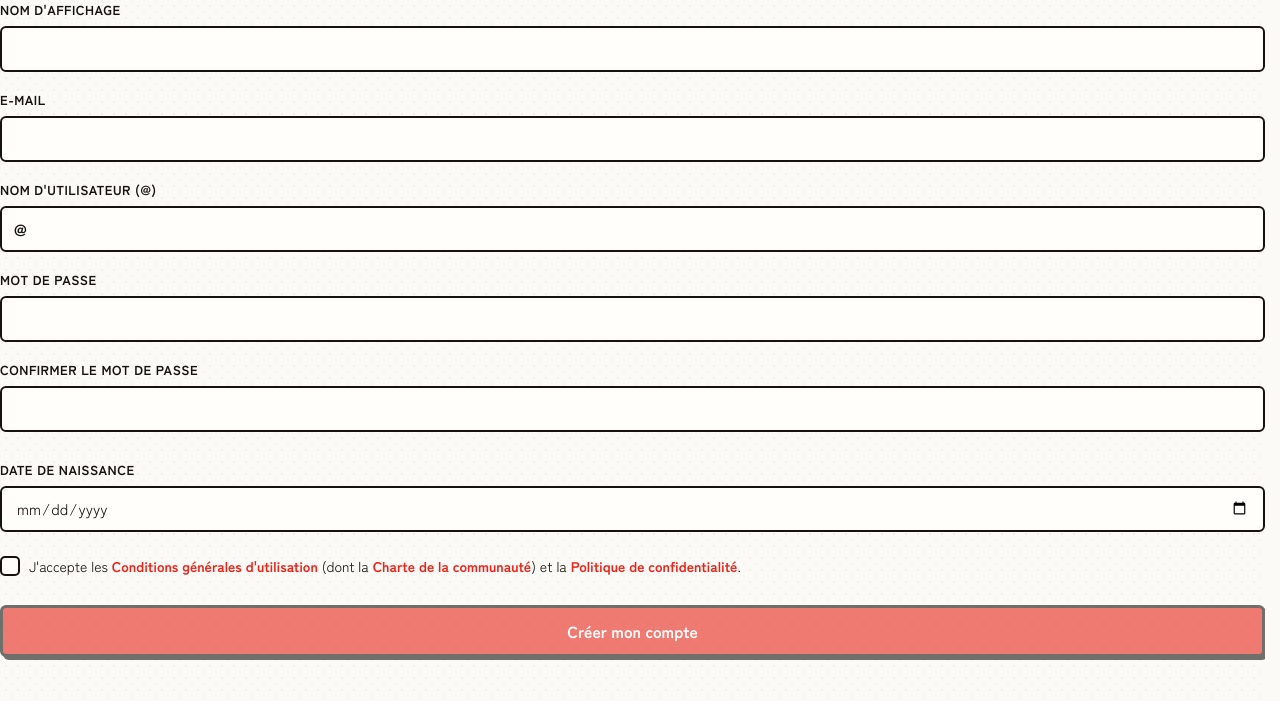
Scenario: SignupForm › shows French required errors on empty submit (after accepting CGU to enable button)
# F-13: check CGU box to enable the submit button, then submit empty form
Click the checkbox labelled "J'accepte les".
click(370, 566)  # box [0,556,741,577]
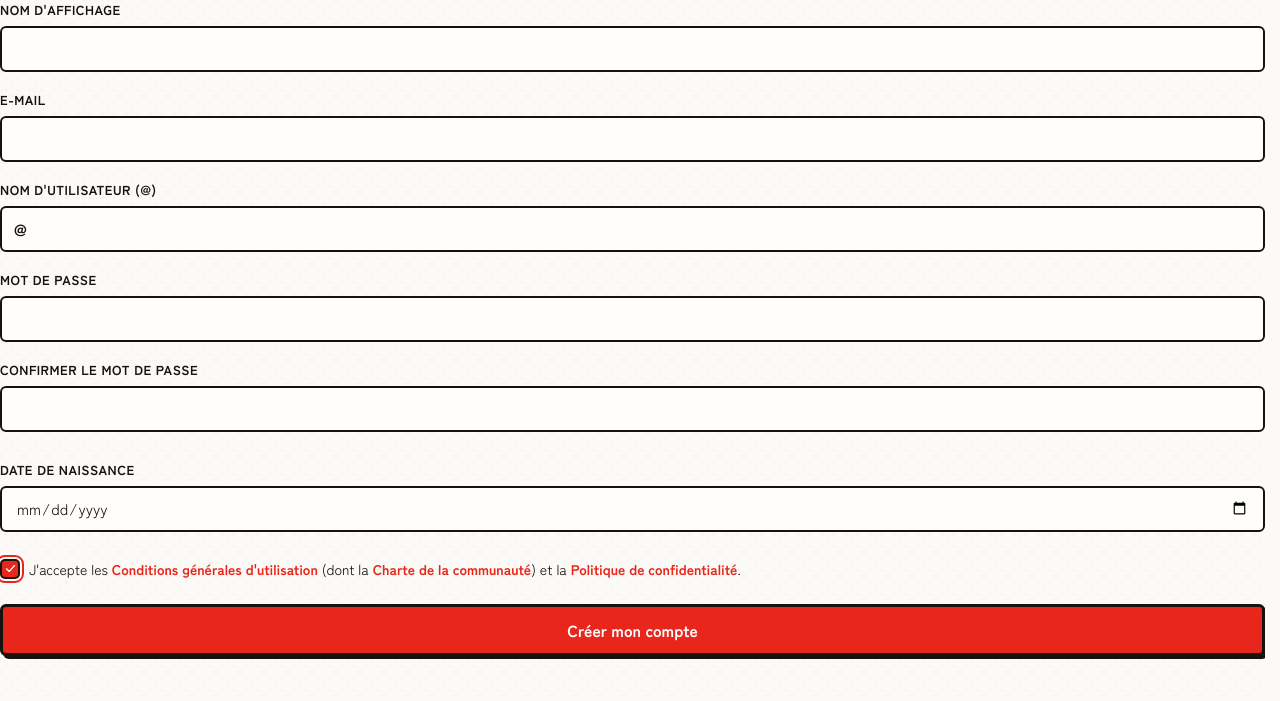
Click the button "Créer mon compte".
click(632, 630)  # box [0,604,1265,656]
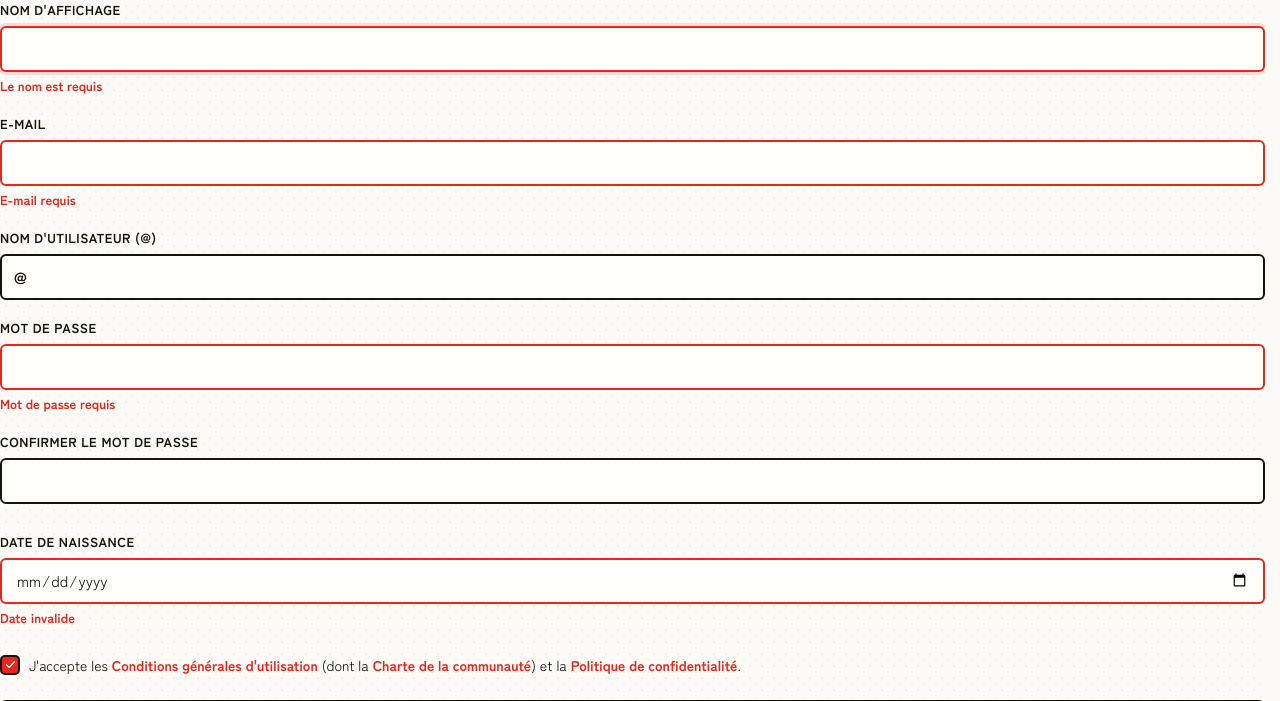
Result: the text "Le nom est requis" is shown at [0,76,102,95]
Result: the text "E-mail requis" is shown at [0,190,76,209]
Result: the text "Mot de passe requis" is shown at [0,394,115,413]
